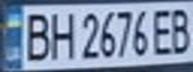2: (78, 8, 100, 60)
6: (130, 7, 154, 57), (97, 8, 118, 59)
7: (115, 7, 133, 57)
B: (18, 8, 54, 62), (169, 4, 193, 54)
E: (148, 4, 175, 56)
H: (45, 8, 78, 61)
